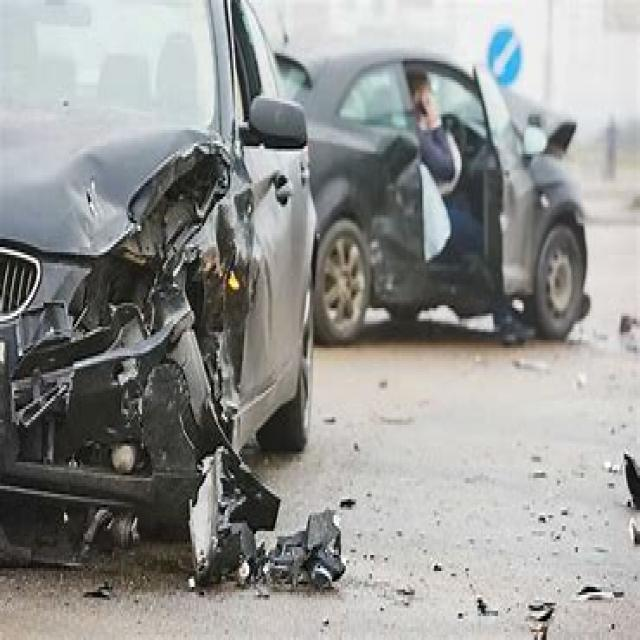Accident: (22, 73, 374, 636), (310, 15, 614, 358)
